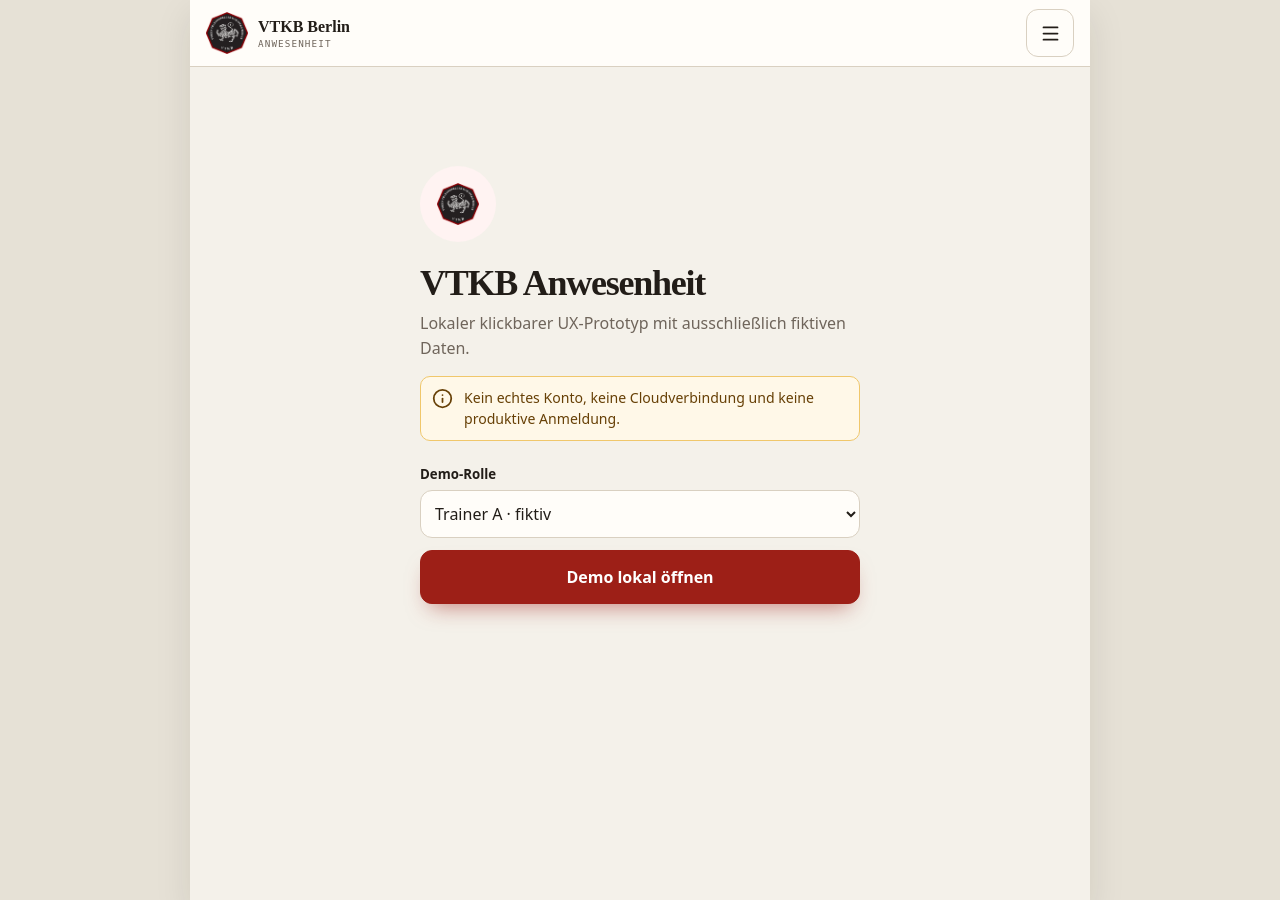
Test case: klickbarer Paket-1-Prototyp › zeigt dem Kassenwart die Zahlungsliste statt Vorstandsfunktionen
Click the button "Demo lokal öffnen" at (640, 577), box [420,550,860,604]
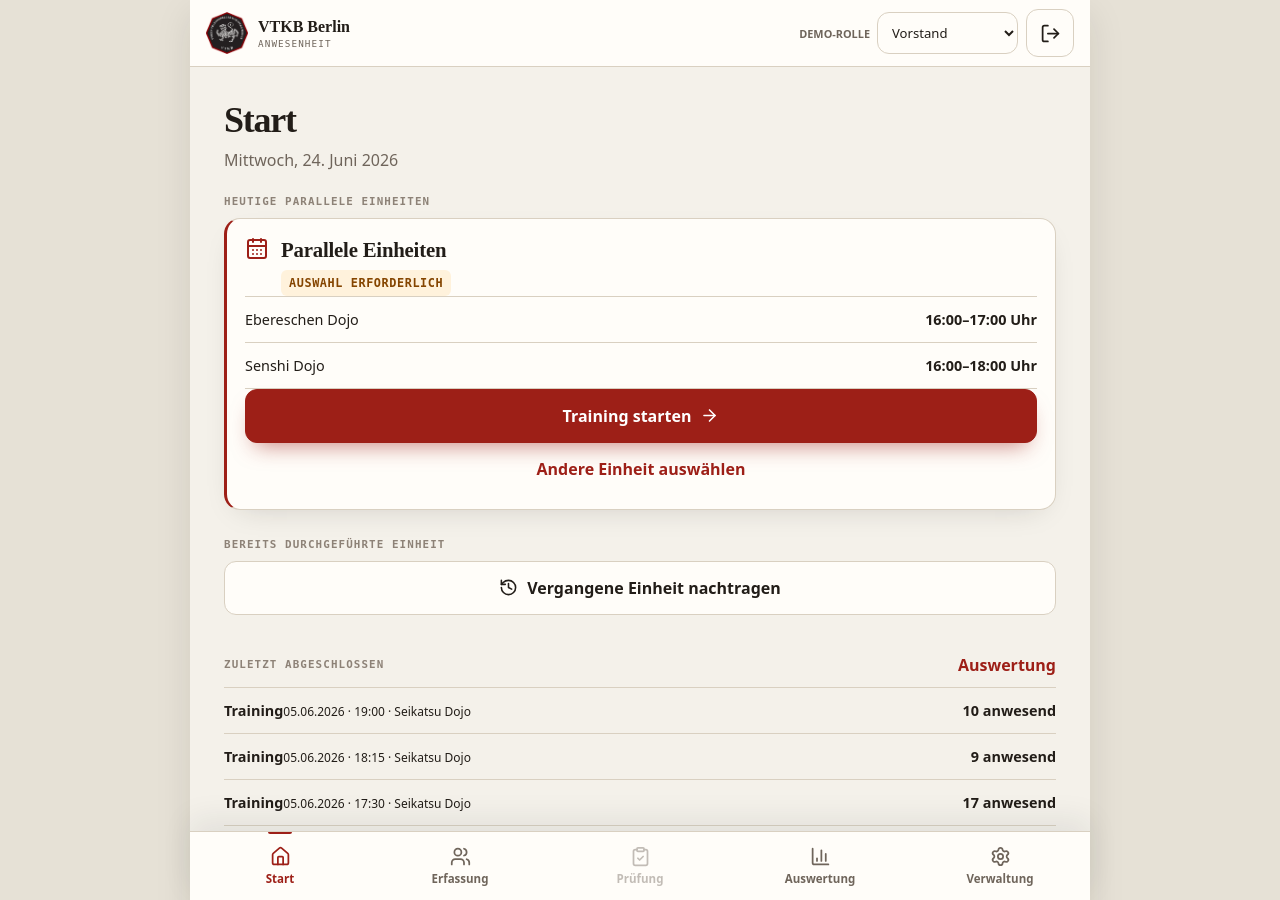
Select "Kassenwart" in the dropdown named "Demo-Rolle wechseln" at (948, 33), box [877,12,1018,54]
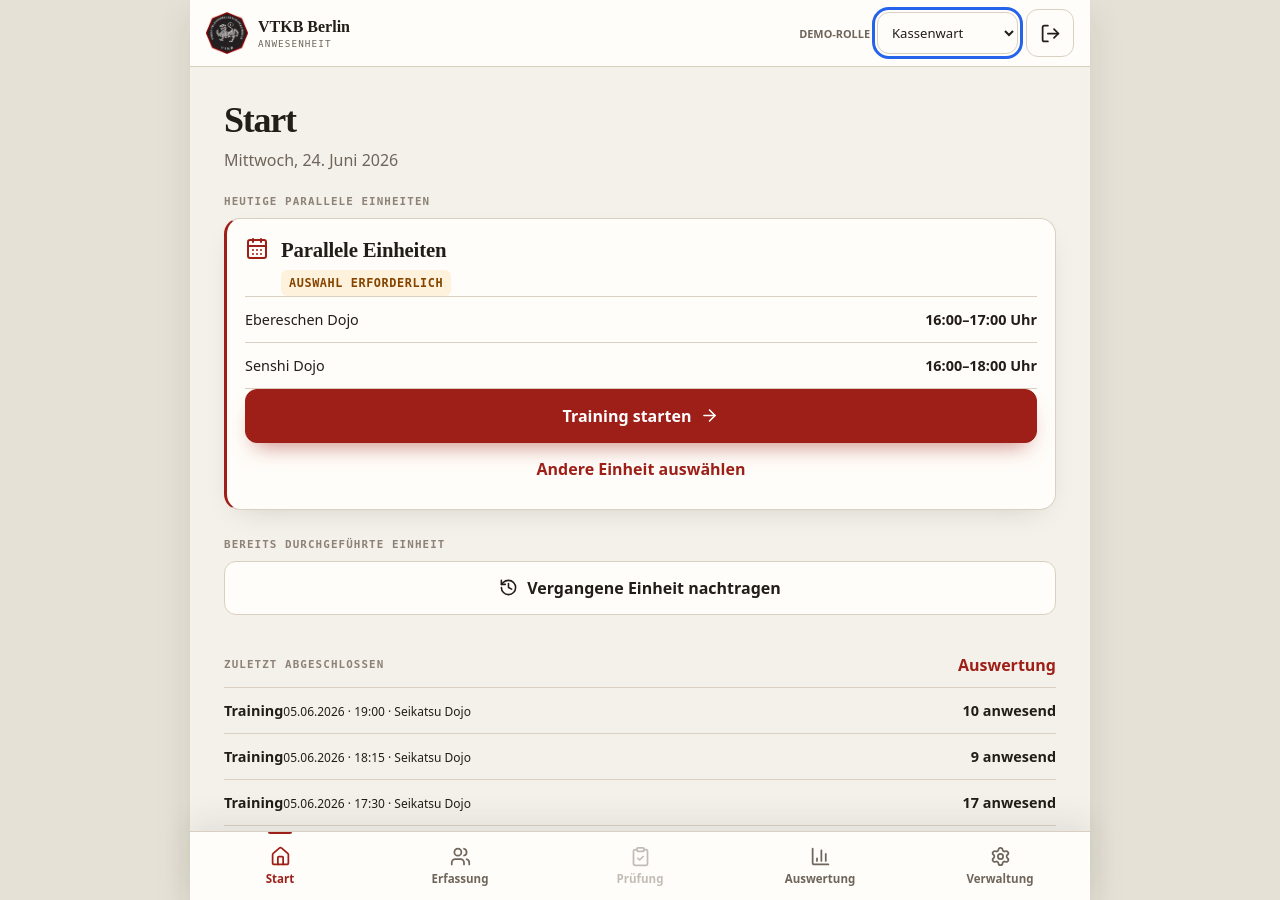
Click the 2nd button "Auswertung" at (820, 866), box [730,832,910,899]
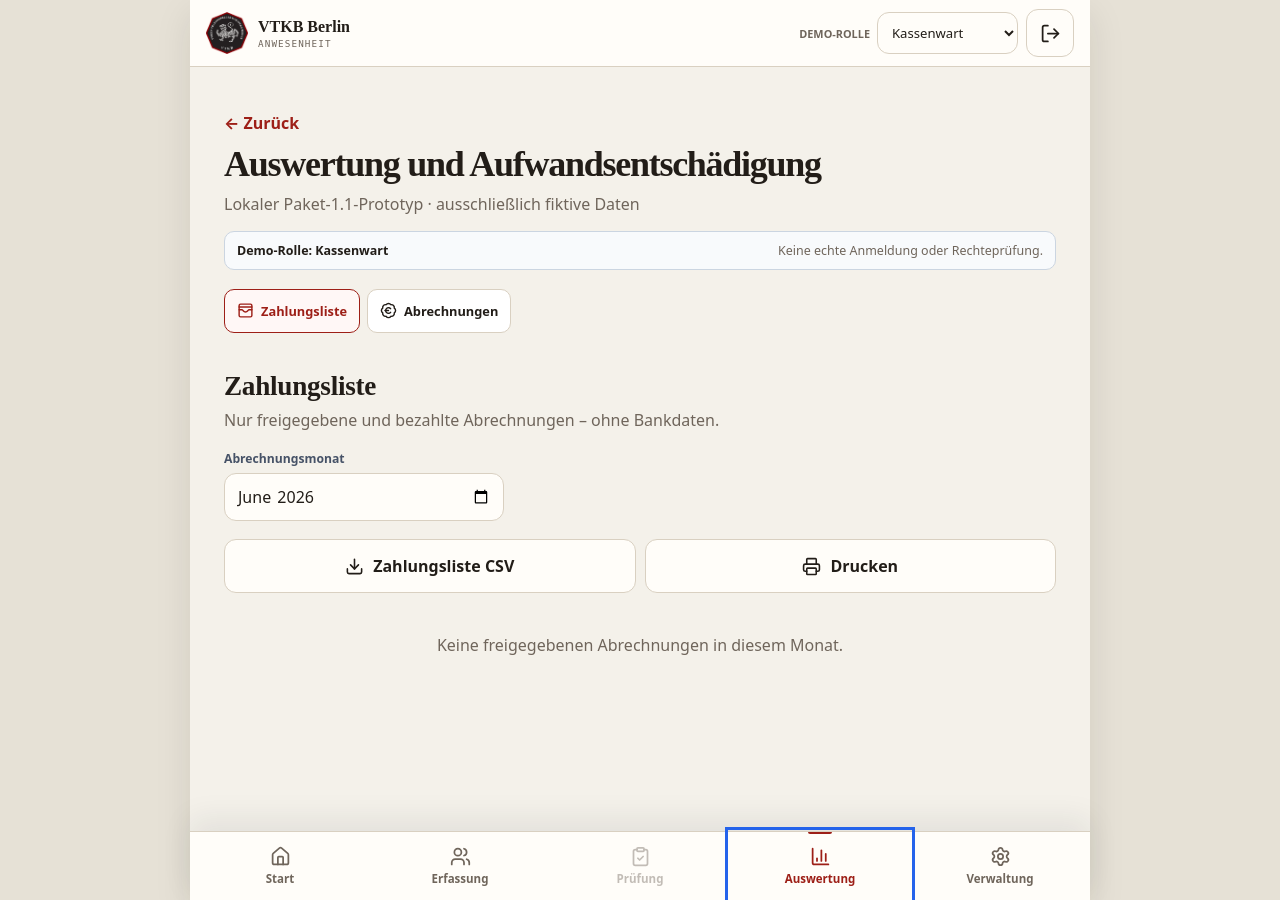
Result: the heading "Zahlungsliste" is shown at [224,371,376,401]
